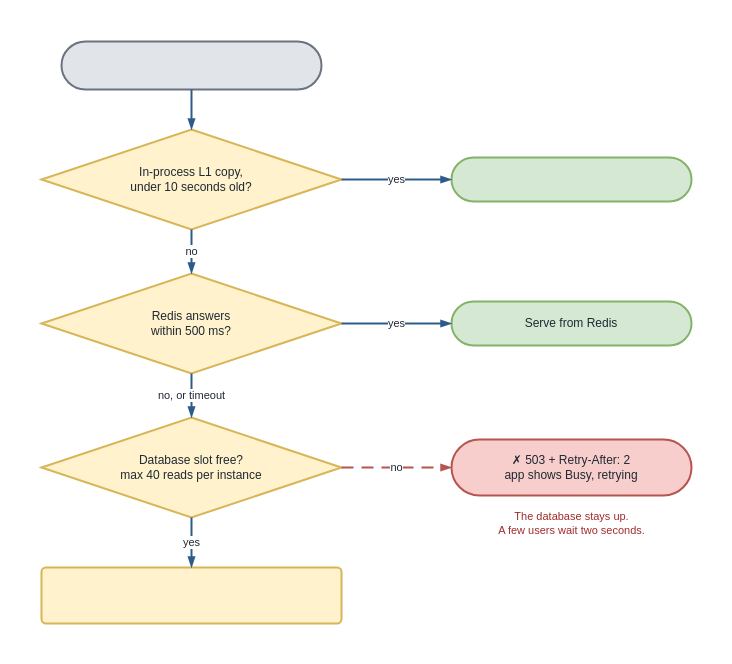
Image size: 732x664. Some labels were removed from this diagram. Each missing label, with the centre of its shape:
"Dish page request" goes at [191,65].
"Query Azure SQL, fill L1, return Slower, still correct" goes at [191,595].
"Serve from memory" goes at [571,179].
